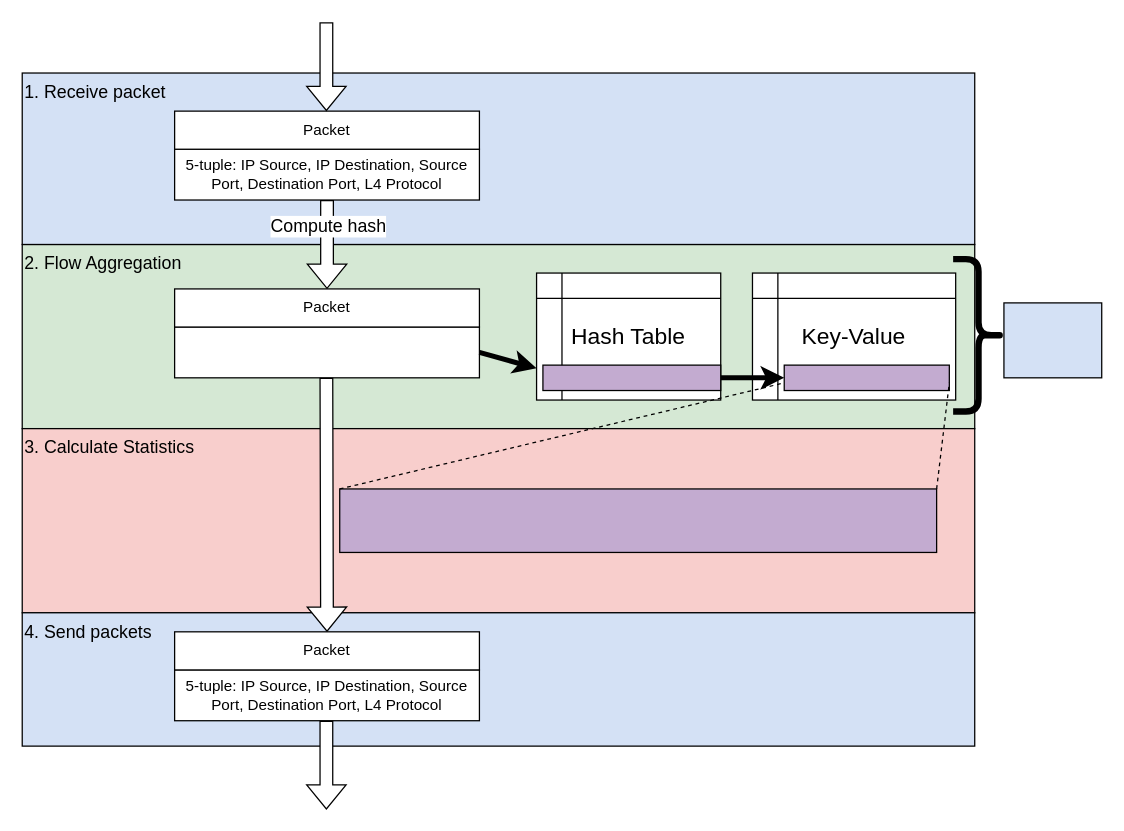
Image size: 1124x831. Some labels were removed from this diagram. Each missing label, with the centre of its shape:
"5. Flow expiry logic" goes at (1052,340).
"hash(5-tuple)" goes at (326,352).
"Min Packet length: ...., Max Packet length: ...., Mean Packet length: ....," goes at (637,520).
